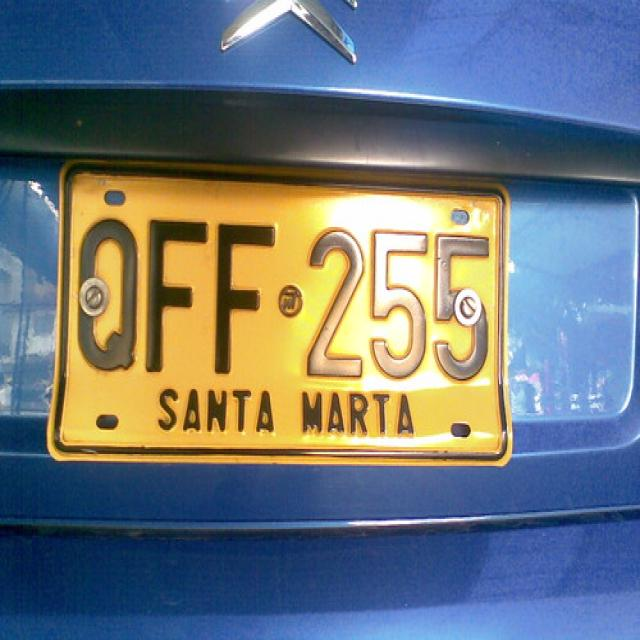placas: (65, 167, 493, 388)
